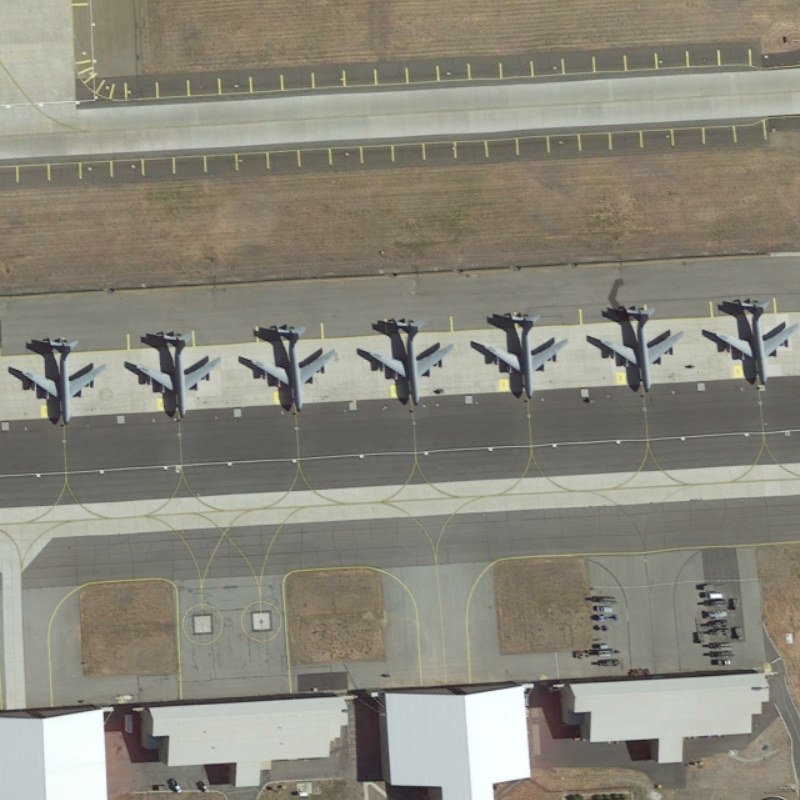A14: (353, 309, 459, 415), (467, 303, 575, 405), (119, 327, 226, 426), (582, 299, 687, 398), (696, 292, 800, 390), (3, 333, 108, 428), (240, 321, 341, 419)
